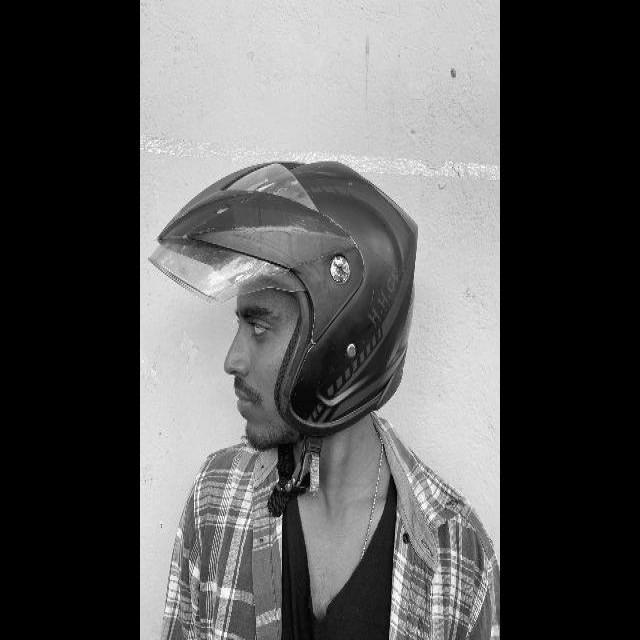5_casco: (147, 160, 419, 436)
